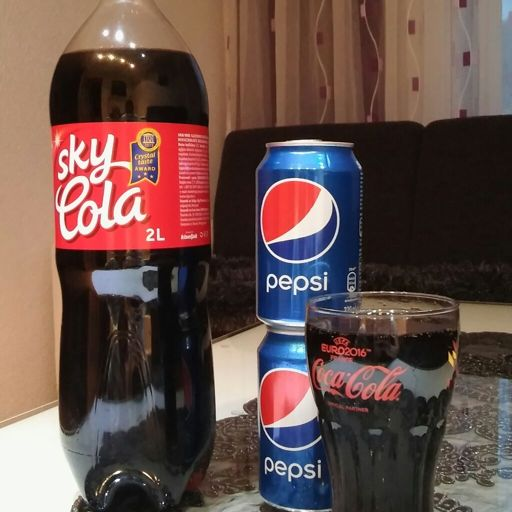can: (254, 131, 359, 335), (252, 329, 326, 512)
